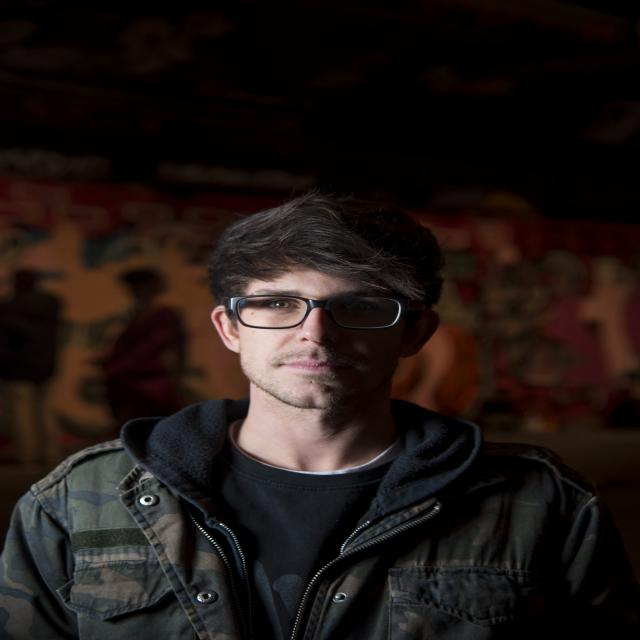adult: (0, 196, 591, 640)
